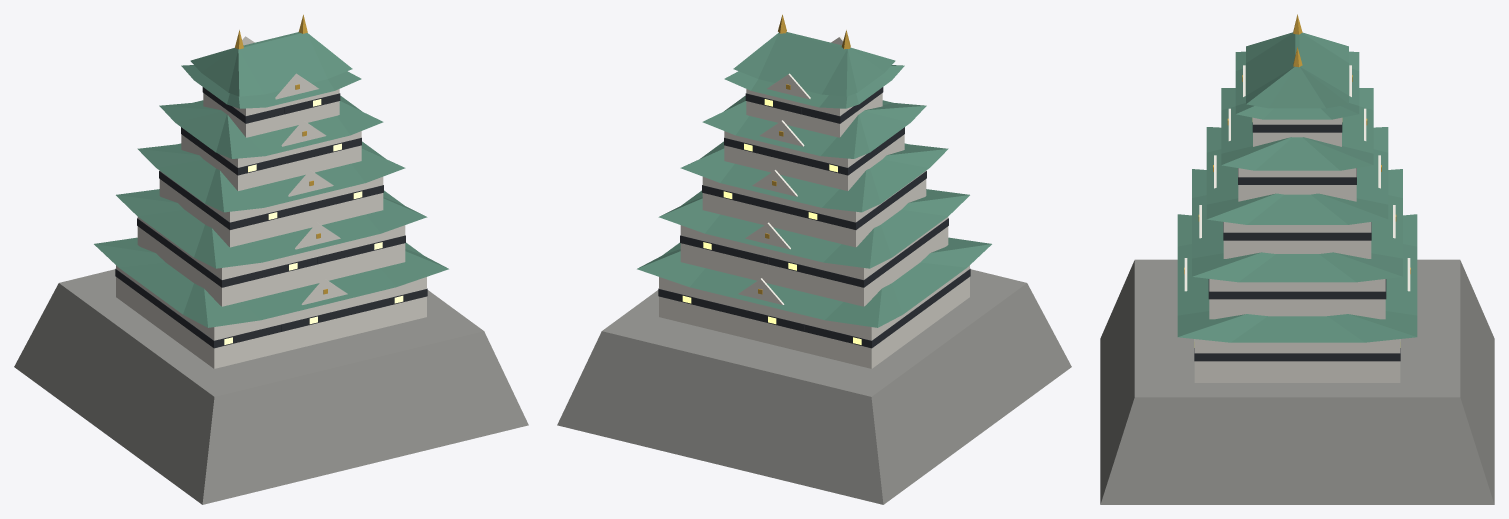
Rendered from slott.glb.
The picture shows the model from 3 angles, left to right: view 1: azimuth 30°, elevation 25°; view 2: azimuth 150°, elevation 25°; view 3: azimuth 270°, elevation 25°; orthographic projection. The views are drawn at different scales.
Parts seen in each view (by area): view 1: slott; view 2: slott; view 3: slott.
Boxes of the visible parts, box(x1,y1,x2,y2) form: slott: box(14, 14, 528, 504); slott: box(557, 14, 1071, 504); slott: box(1100, 14, 1494, 504).
Bounding box in the file's own units: 45.99 × 50.4 × 45.99.
